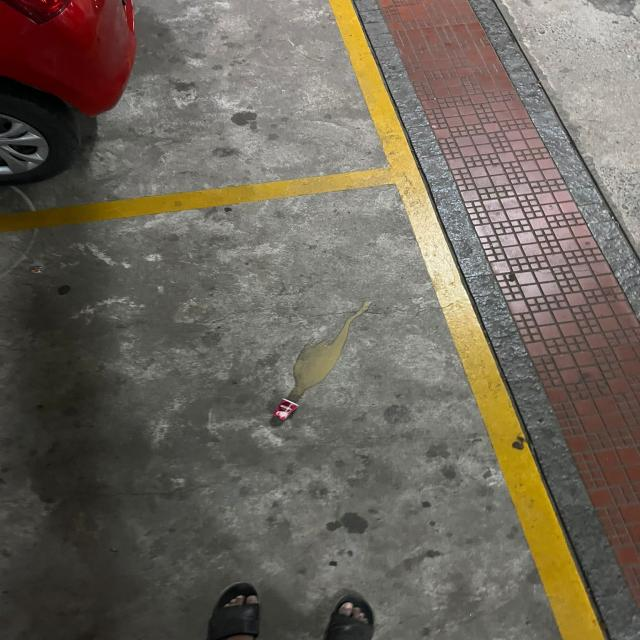cup: (274, 398, 297, 421)
spill: (292, 301, 369, 406)
